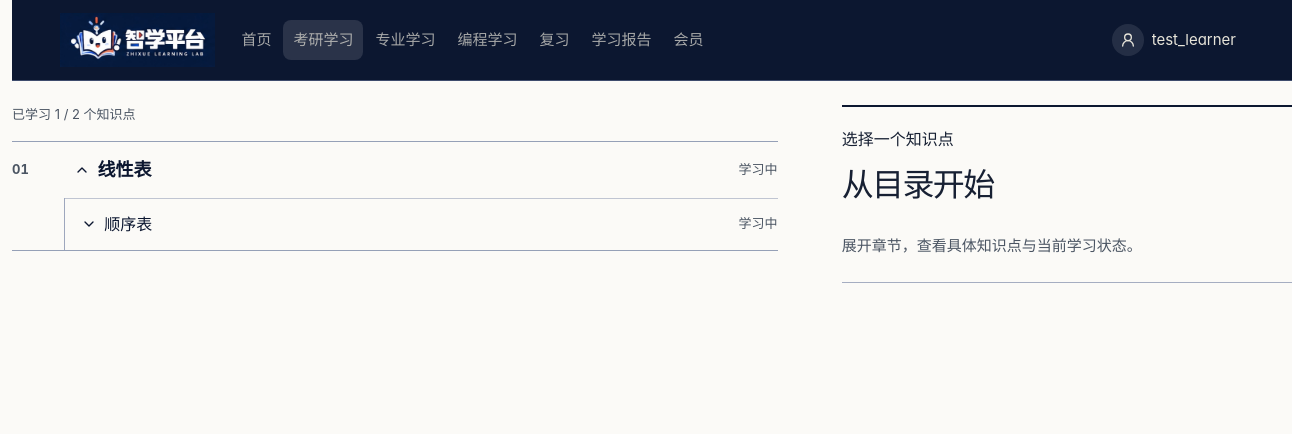
Test: Cs408KnowledgeWorkspace knowledge point AI › carries a synthetic node as its code and its title, for the model to read
Click the button with aria-label "展开 顺序表": (128, 224) [81,202,728,246]
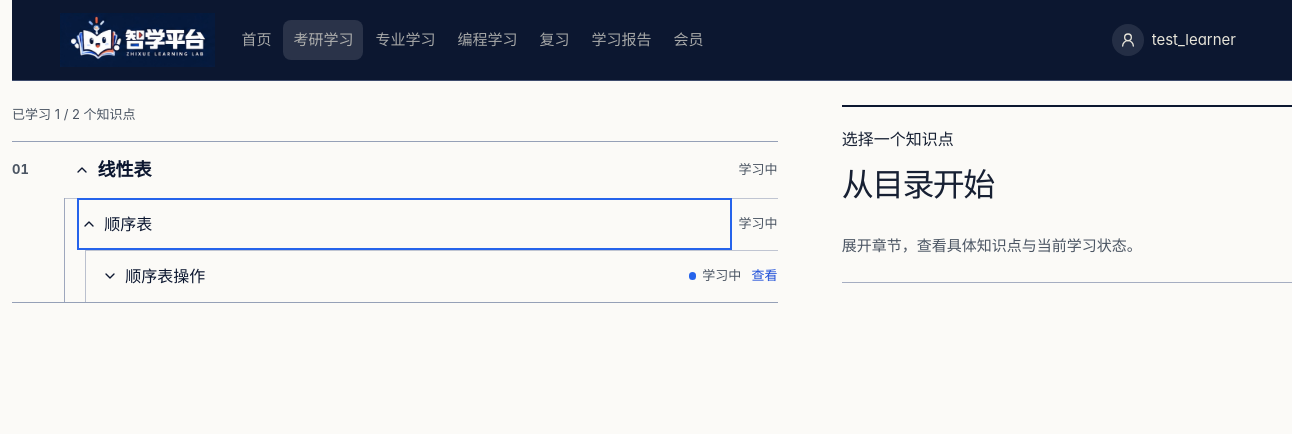
Click the button with aria-label "查看 顺序表操作": (765, 276) [752,254,778,298]
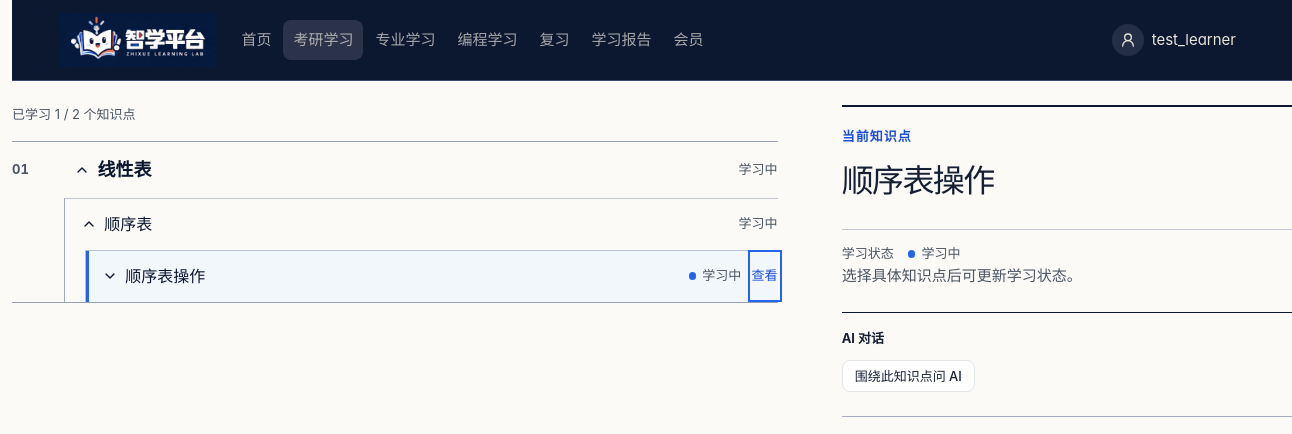
Expected: the heading "顺序表操作" is shown, [842,161,994,200]
